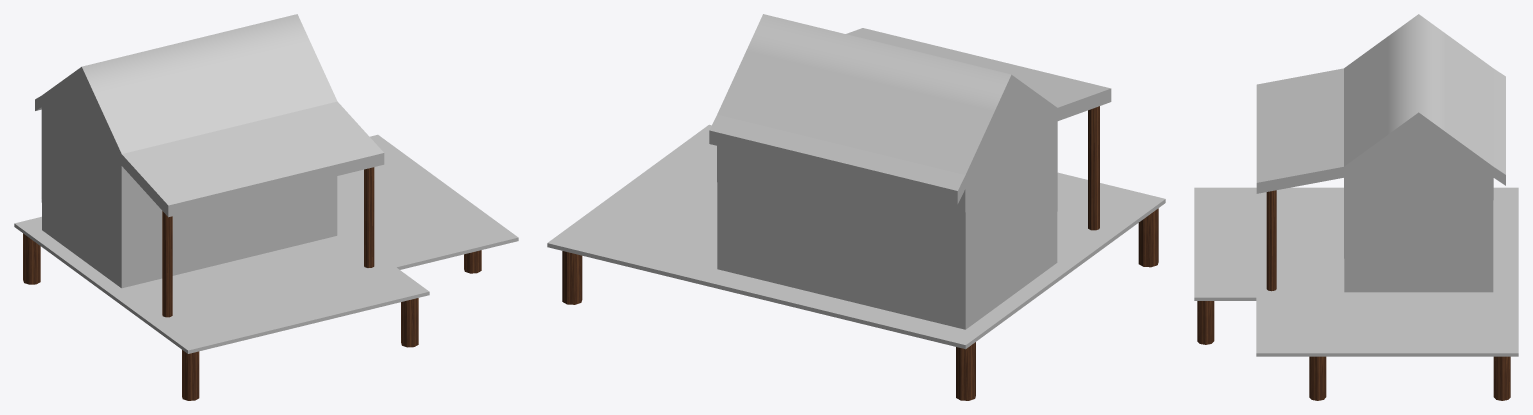
The model's file is Fishing Rental 3.0.fbx.
3 renders of one model, left to right at view 1: azimuth 30°, elevation 25°; view 2: azimuth 150°, elevation 25°; view 3: azimuth 270°, elevation 25°, orthographic. The views are drawn at different scales.
Parts seen in each view (by area): view 1: polySurface5, polySurface6, polySurface7, polySurface4, polySurface9, polySurface10, polySurface2; view 2: polySurface5, polySurface6, polySurface7, polySurface2, polySurface9, polySurface3; view 3: polySurface5, polySurface6, polySurface4, polySurface1, polySurface3, polySurface10.
Boxes of the visible parts, <box> form: polySurface5: <box>35,14,384,288</box>; polySurface6: <box>14,134,518,353</box>; polySurface7: <box>162,211,172,317</box>; polySurface4: <box>364,167,374,267</box>; polySurface9: <box>182,350,199,400</box>; polySurface10: <box>401,298,418,347</box>; polySurface2: <box>23,233,40,284</box>; polySurface5: <box>709,14,1111,329</box>; polySurface6: <box>547,124,1165,349</box>; polySurface7: <box>1088,106,1099,230</box>; polySurface2: <box>956,342,975,400</box>; polySurface9: <box>1138,208,1158,267</box>; polySurface3: <box>562,251,582,304</box>; polySurface5: <box>1256,14,1505,292</box>; polySurface6: <box>1194,187,1518,356</box>; polySurface4: <box>1266,190,1276,291</box>; polySurface1: <box>1309,356,1326,400</box>; polySurface3: <box>1493,356,1510,400</box>; polySurface10: <box>1197,301,1214,344</box>.
Bounding box in the file's own units: 1191 × 769 × 985.
